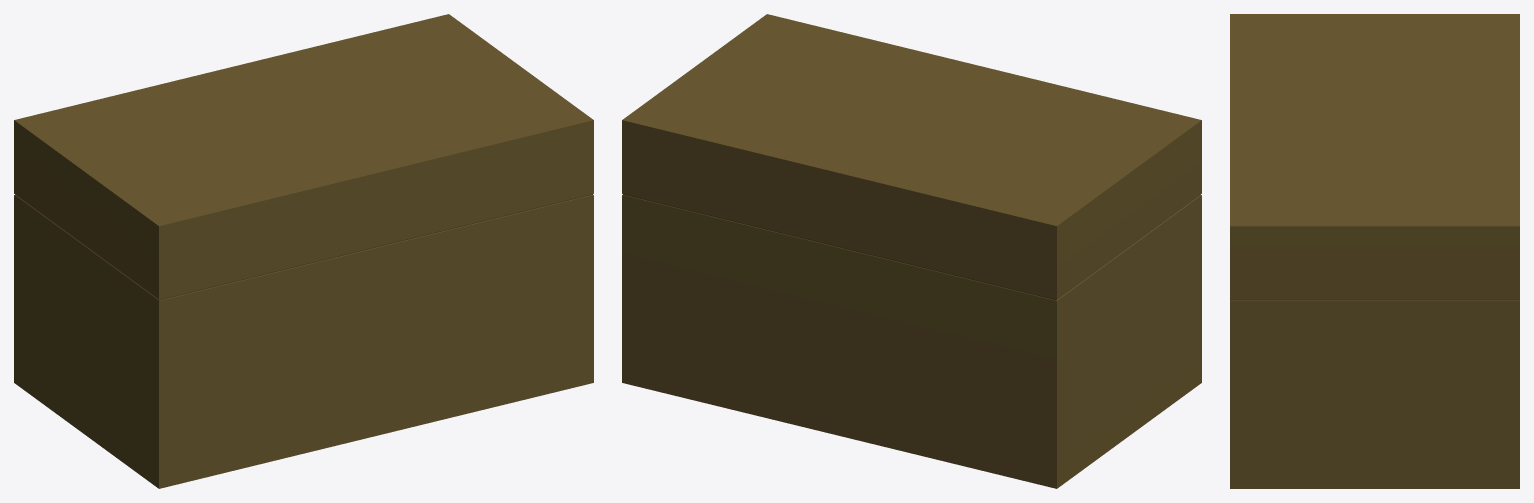
Rendered from Chest.fbx.
3 renders of one model, left to right at view 1: azimuth 30°, elevation 25°; view 2: azimuth 150°, elevation 25°; view 3: azimuth 270°, elevation 25°, orthographic.
Parts seen in each view (by area): view 1: pCube1; view 2: pCube1; view 3: pCube1.
Part boxes in pixels (x1,y1,x2,y2): pCube1: [14, 14, 593, 488]; pCube1: [622, 14, 1201, 488]; pCube1: [1230, 14, 1519, 488].
Size of the model in its own units: 6.11 by 3.53 by 3.53.
